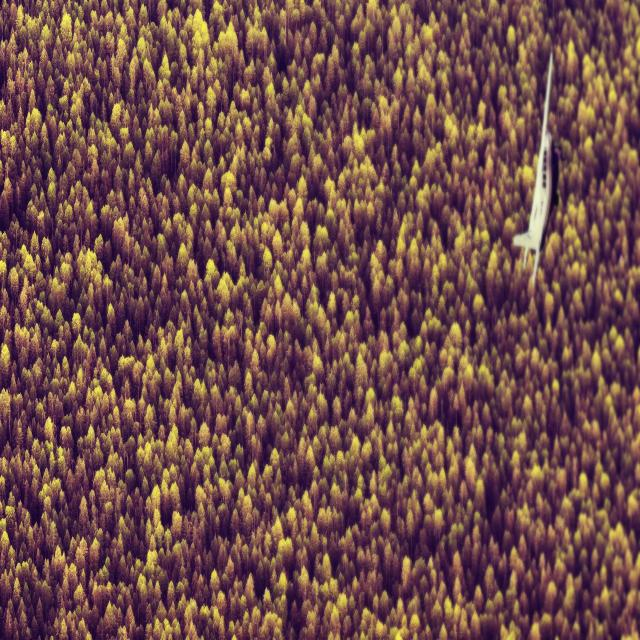airplane: (511, 51, 554, 287)
